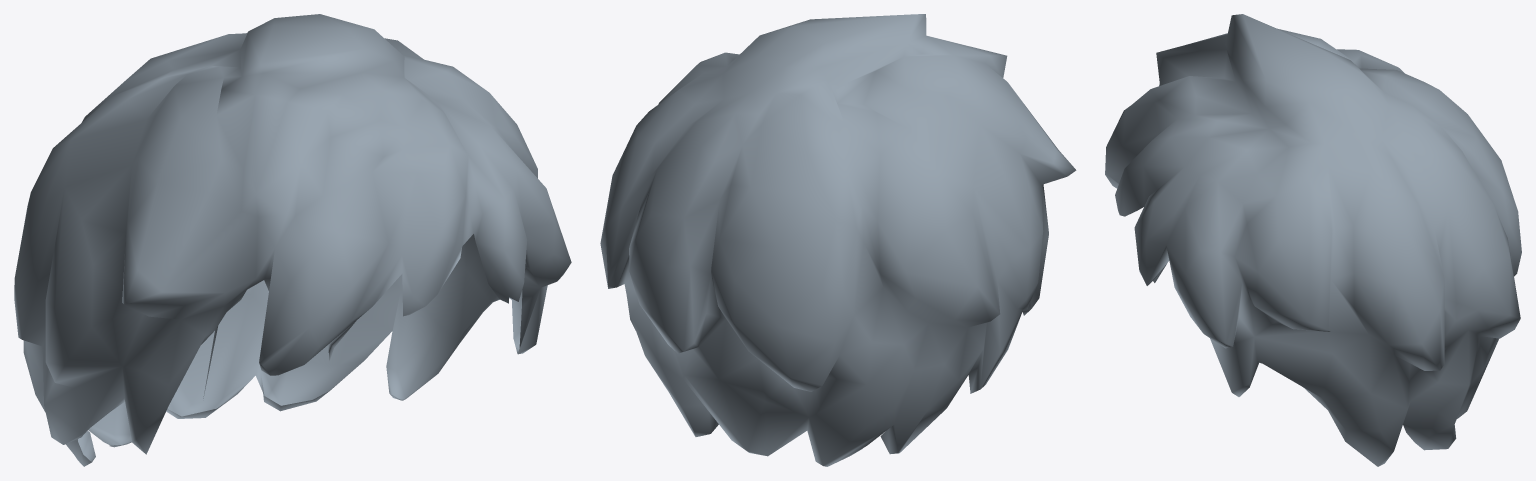
File: cabelo_1.glb
The picture shows the model from 3 angles, left to right: view 1: azimuth 30°, elevation 25°; view 2: azimuth 150°, elevation 25°; view 3: azimuth 270°, elevation 25°; orthographic projection. The views are drawn at different scales.
Visible parts, largest first — view 1: cabelo_1; view 2: cabelo_1; view 3: cabelo_1.
Boxes of the visible parts, <box> form: cabelo_1: <box>14,14,571,466</box>; cabelo_1: <box>600,14,1076,466</box>; cabelo_1: <box>1105,14,1521,466</box>.
Bounding box in the file's own units: 0.2024 × 0.1887 × 0.1891.
